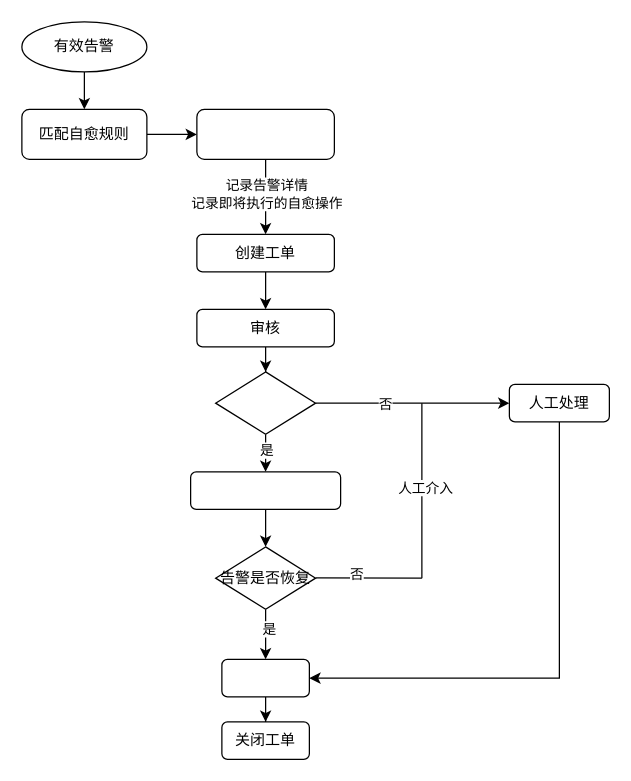
This 631x781 diagram has some shape labels left out. Here are the shapes that lost their labels. From the top down, the centre of each, then its label:
the point at 265,133: 工单系统
the point at 265,402: 是否通过
the point at 265,490: 系统执行自愈操作
the point at 265,677: 告警恢复
